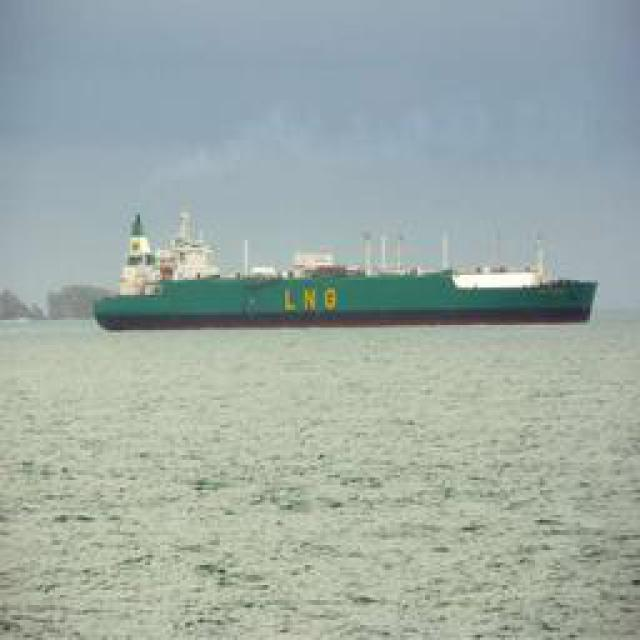Ship: (107, 211, 587, 329)
